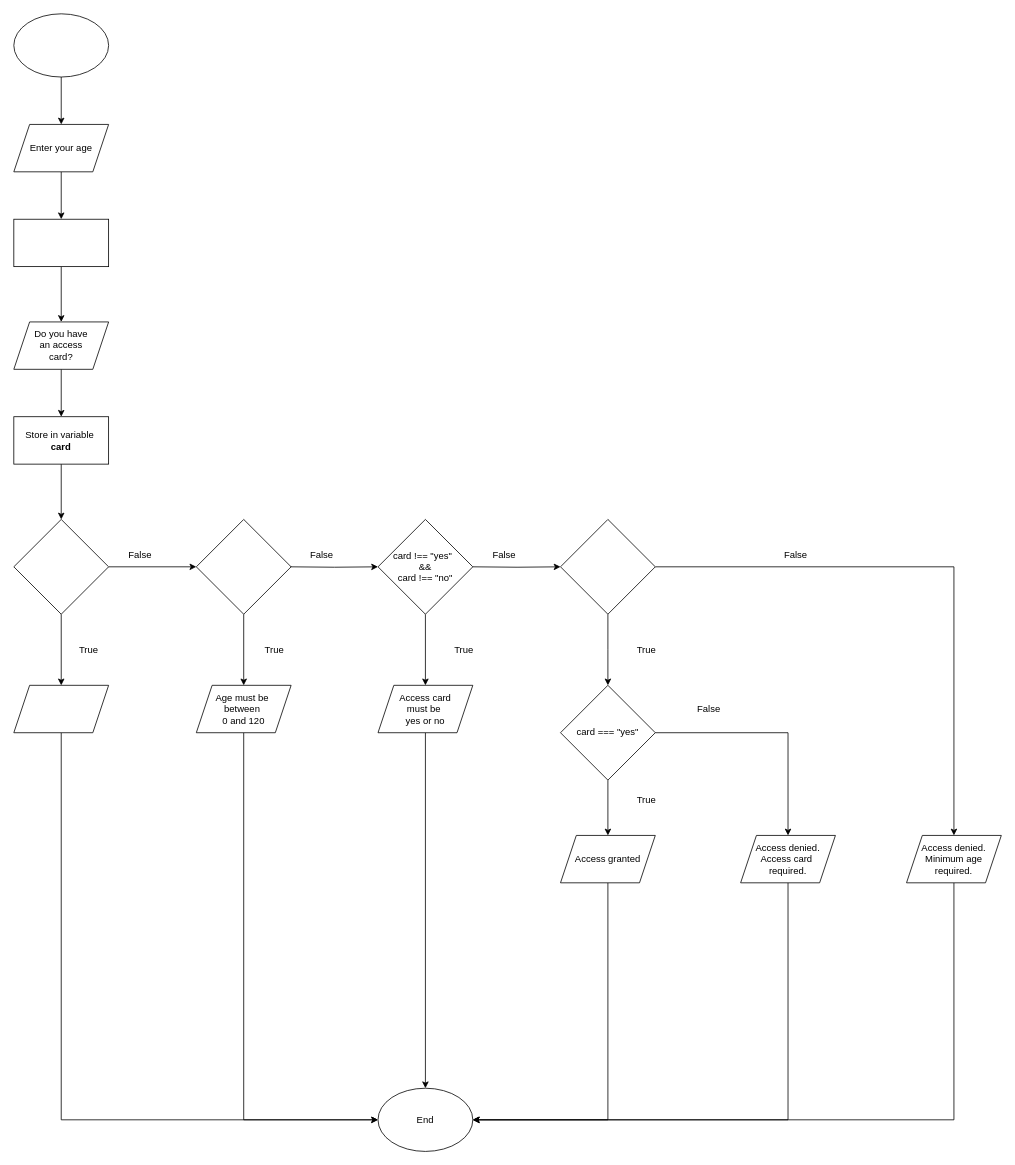
Some shapes in this 1015 by 1165 pixel diagram are drawn without their labels. Each missing label, with the centre of its shape:
age < 0 || age > 120: the point at 243,566
age >= 18: the point at 607,566
Age must be a number: the point at 61,709
isNaN(age): the point at 61,566
Start: the point at 61,45
Store in variable age: the point at 61,242
